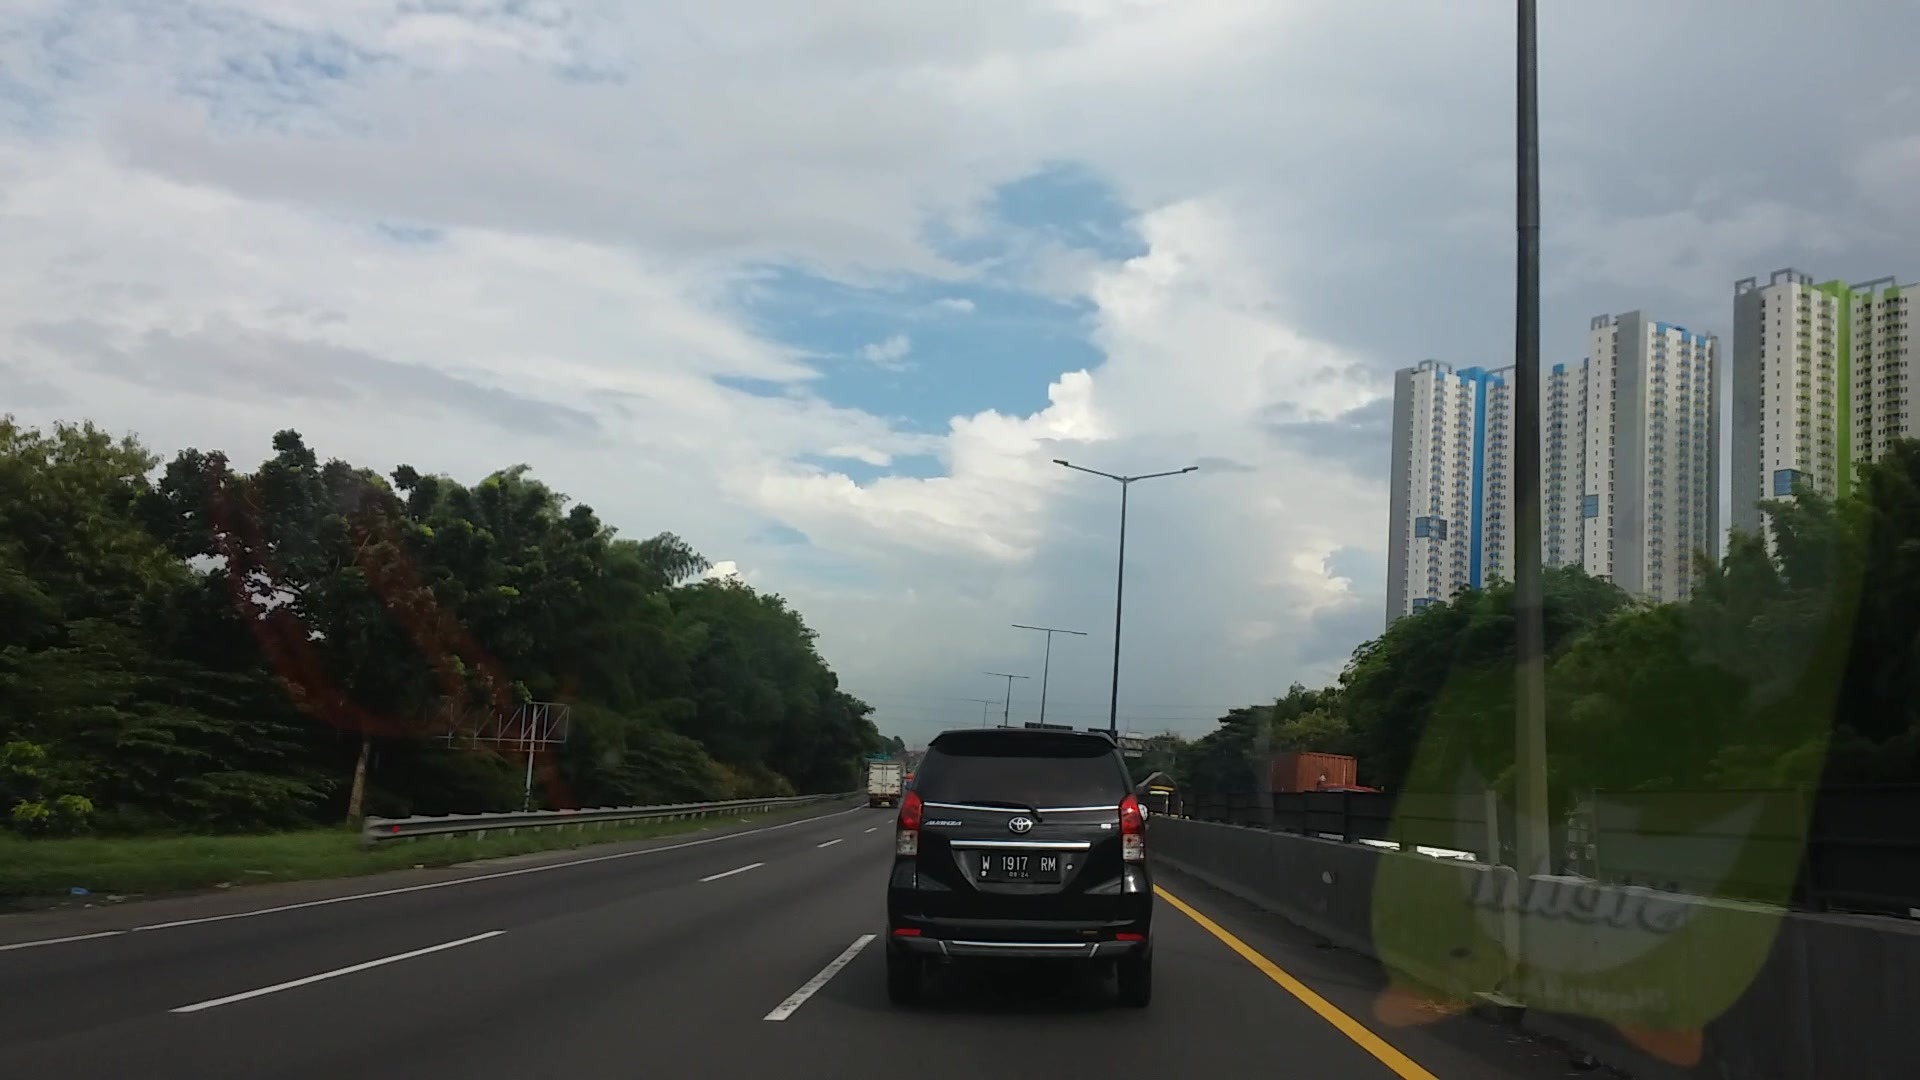plate_positive: (978, 851, 1058, 880)
